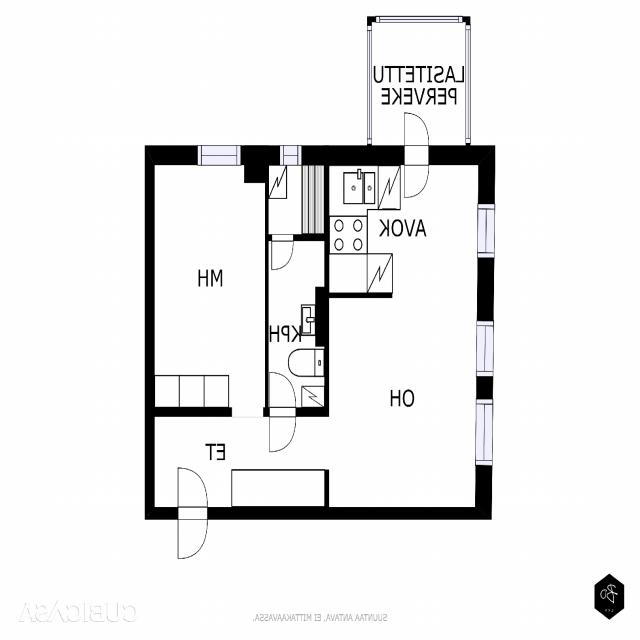door: (178, 507, 207, 558), (178, 469, 207, 519), (405, 146, 428, 197), (269, 372, 295, 417), (405, 115, 428, 165), (269, 407, 295, 451), (271, 234, 293, 270)
